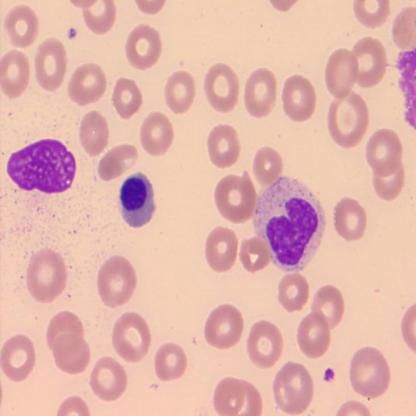NRC: (118, 169, 157, 229)
